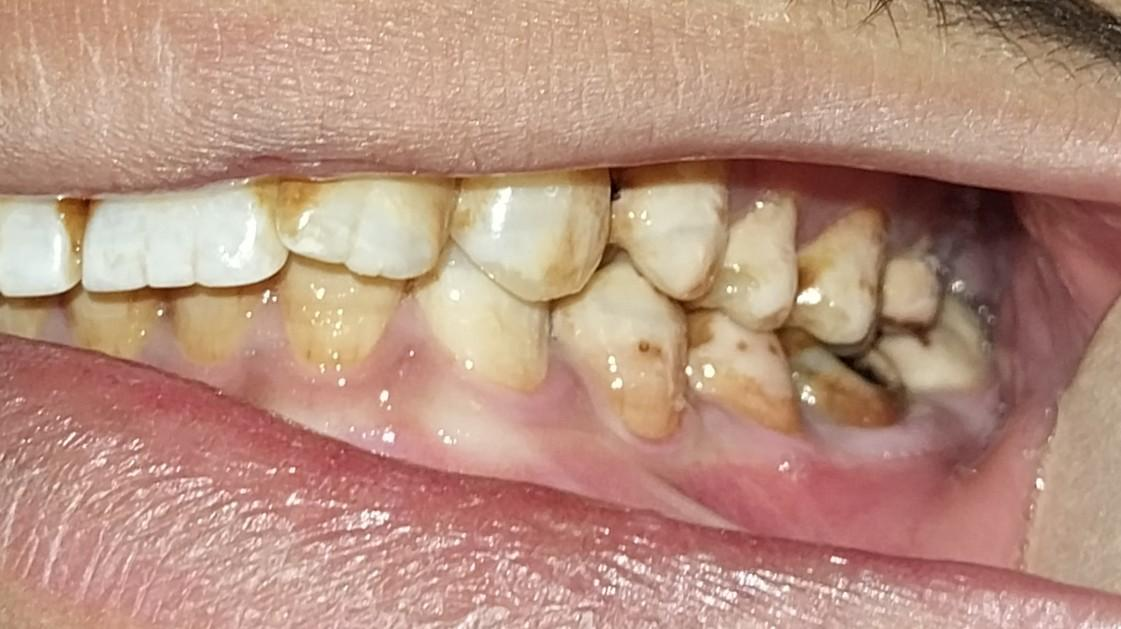D: (784, 338, 911, 432)
